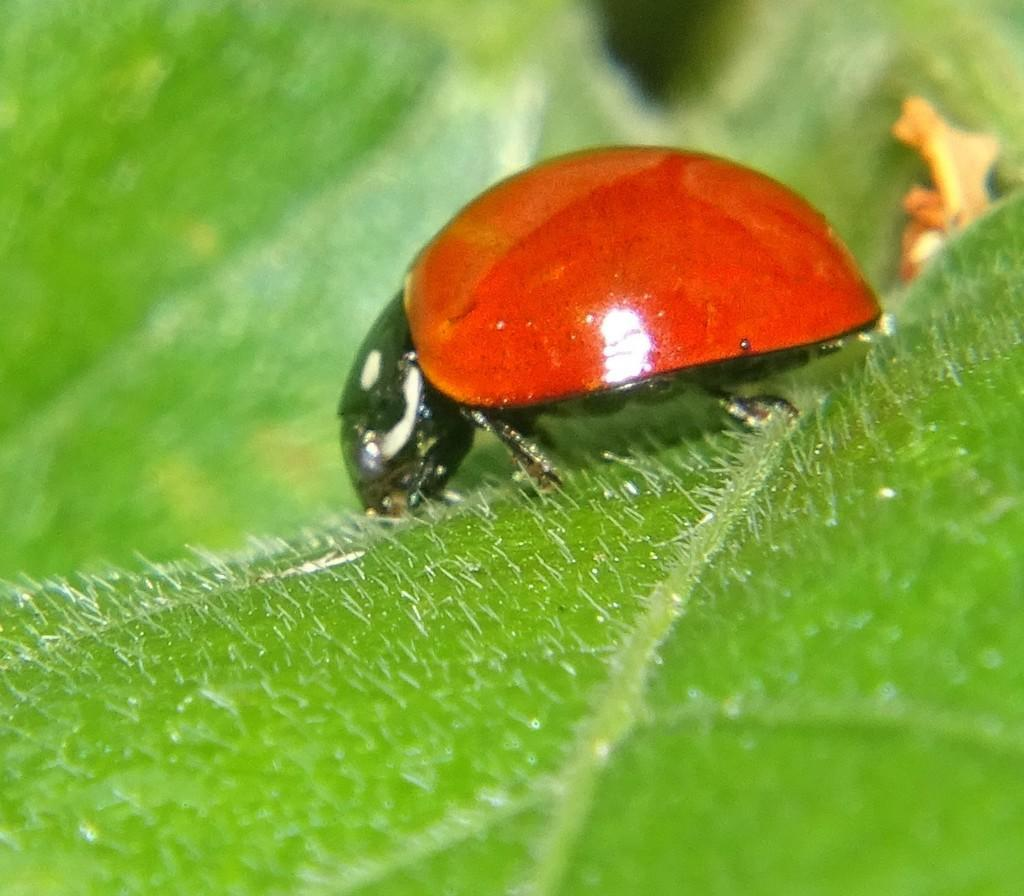ladybug: (339, 141, 889, 529)
